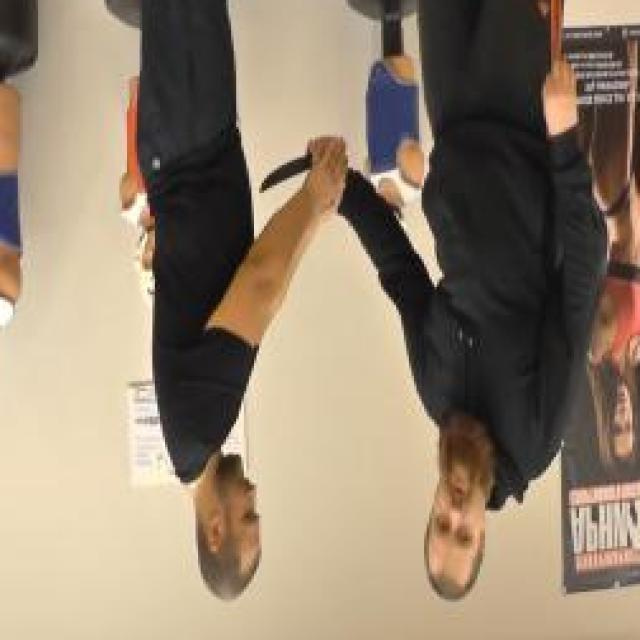knife: (257, 133, 349, 201)
